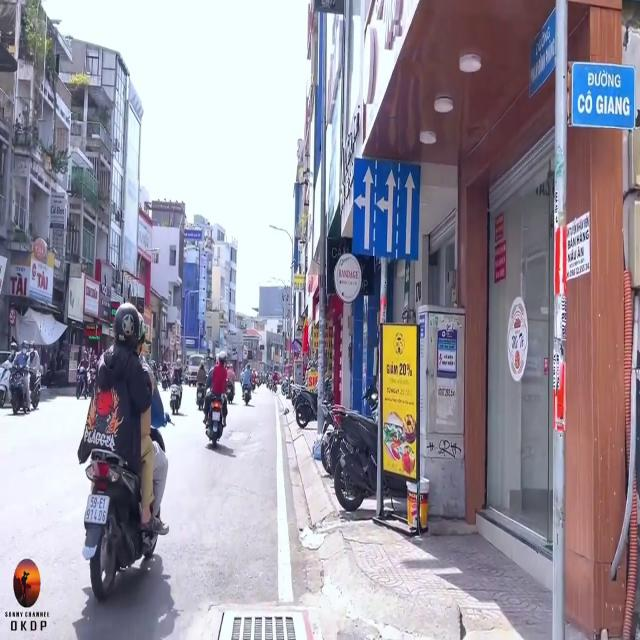bien_trang: (82, 494, 109, 526)
